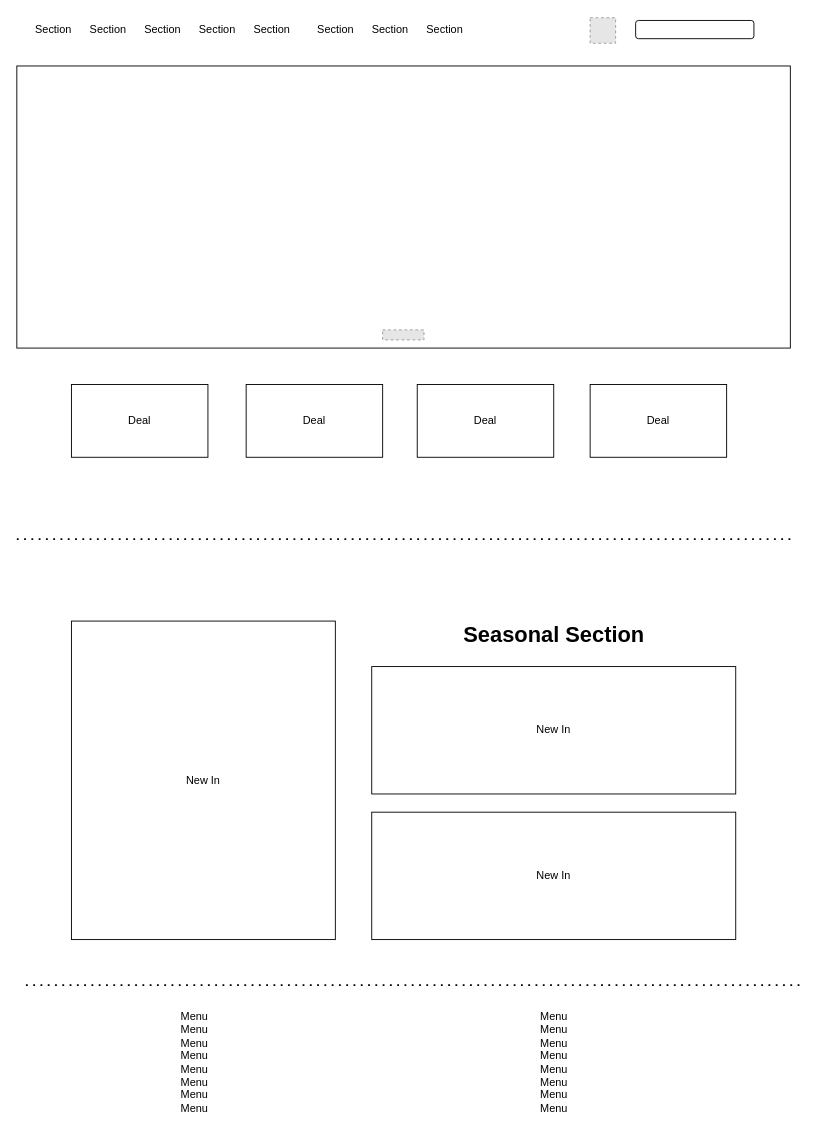
This 816x1137 diagram has some shape labels left out. Grey dashed boxes stand in for pictures. Here are the shapes that lost their labels. From the top down, the centre of each, then its label:
At (x=694, y=29): "Search".
At (x=403, y=206): "Image".
